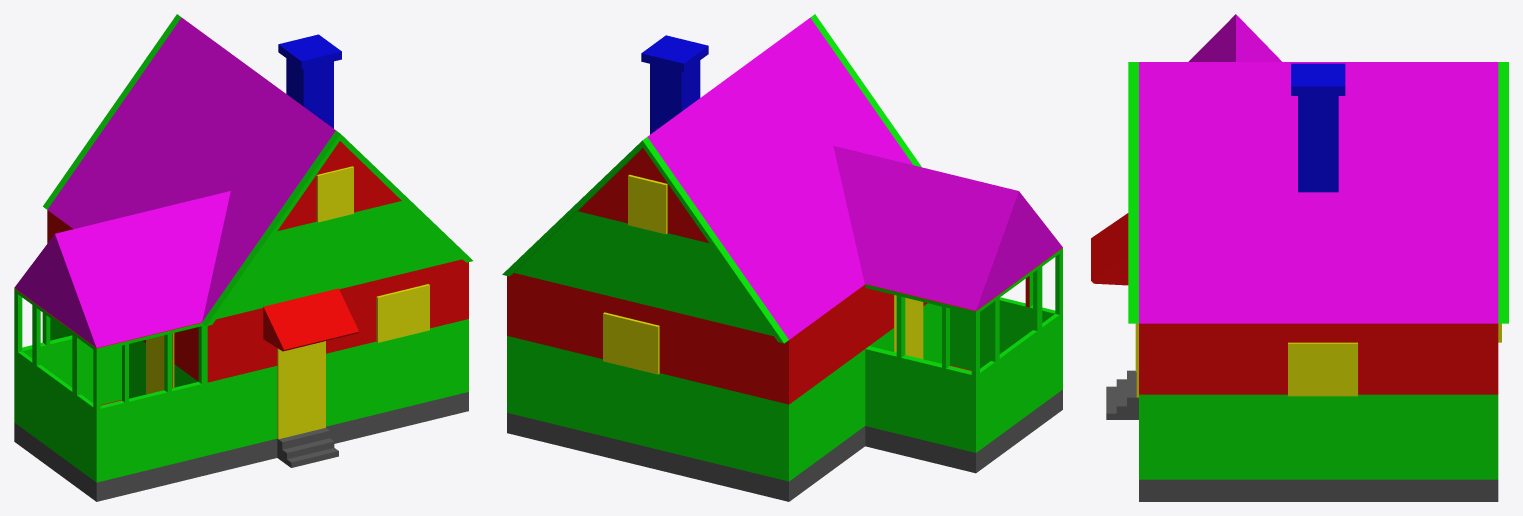
Rendered from Casa Maior ST.fbx.
3 views of the same model, side by side, from view 1: azimuth 30°, elevation 25°; view 2: azimuth 150°, elevation 25°; view 3: azimuth 270°, elevation 25° (orthographic). The views are drawn at different scales.
Visible parts, largest first — view 1: Casa_Maior, Porta_1, CM_Janela_do_topo_1, CM_Janela_1, CM_Janela_2, Porta_2; view 2: Casa_Maior, CM_Janela_do_topo_2, CM_Janela_1, CM_Janela_2, Porta_2; view 3: Casa_Maior, CM_Janela_2, CM_Janela_1.
Boxes of the visible parts, bbox=[...] form: Casa_Maior: bbox=[14, 14, 472, 501]; Porta_1: bbox=[277, 341, 325, 439]; CM_Janela_do_topo_1: bbox=[316, 166, 353, 222]; CM_Janela_1: bbox=[376, 290, 403, 342]; CM_Janela_2: bbox=[403, 284, 429, 336]; Porta_2: bbox=[146, 333, 174, 394]; Casa_Maior: bbox=[502, 14, 1062, 501]; CM_Janela_do_topo_2: bbox=[628, 174, 667, 234]; CM_Janela_1: bbox=[630, 319, 659, 374]; CM_Janela_2: bbox=[603, 312, 631, 367]; Porta_2: bbox=[894, 295, 923, 358]; Casa_Maior: bbox=[1091, 14, 1508, 501]; CM_Janela_2: bbox=[1322, 342, 1357, 396]; CM_Janela_1: bbox=[1288, 342, 1322, 396].
Bounding box in the file's own units: 630 × 526 × 524.
